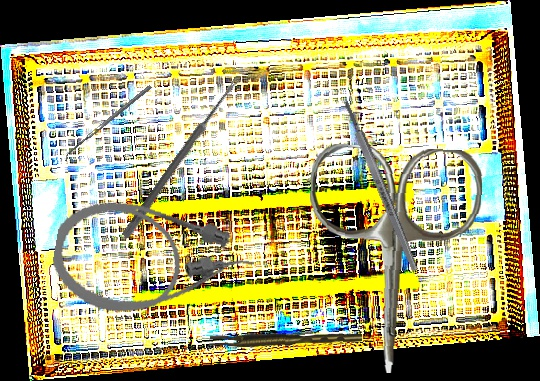Cannula: (45, 191, 262, 335)
Iris Scissors: (301, 142, 484, 378)
Scalpel Handle: (340, 98, 421, 274)
Spatula Surgical: (61, 84, 155, 163)
Surgical Spoon: (121, 74, 242, 240)
Tissue Forceps: (209, 331, 362, 349)
